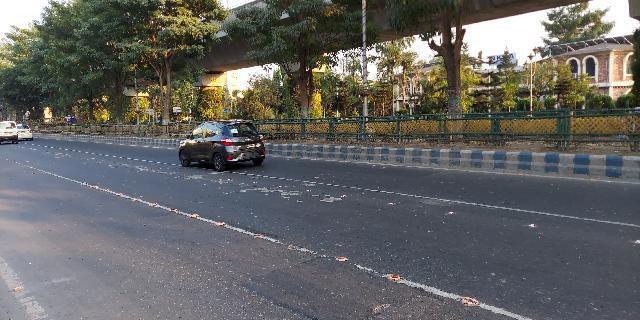Car: (175, 115, 265, 173)
